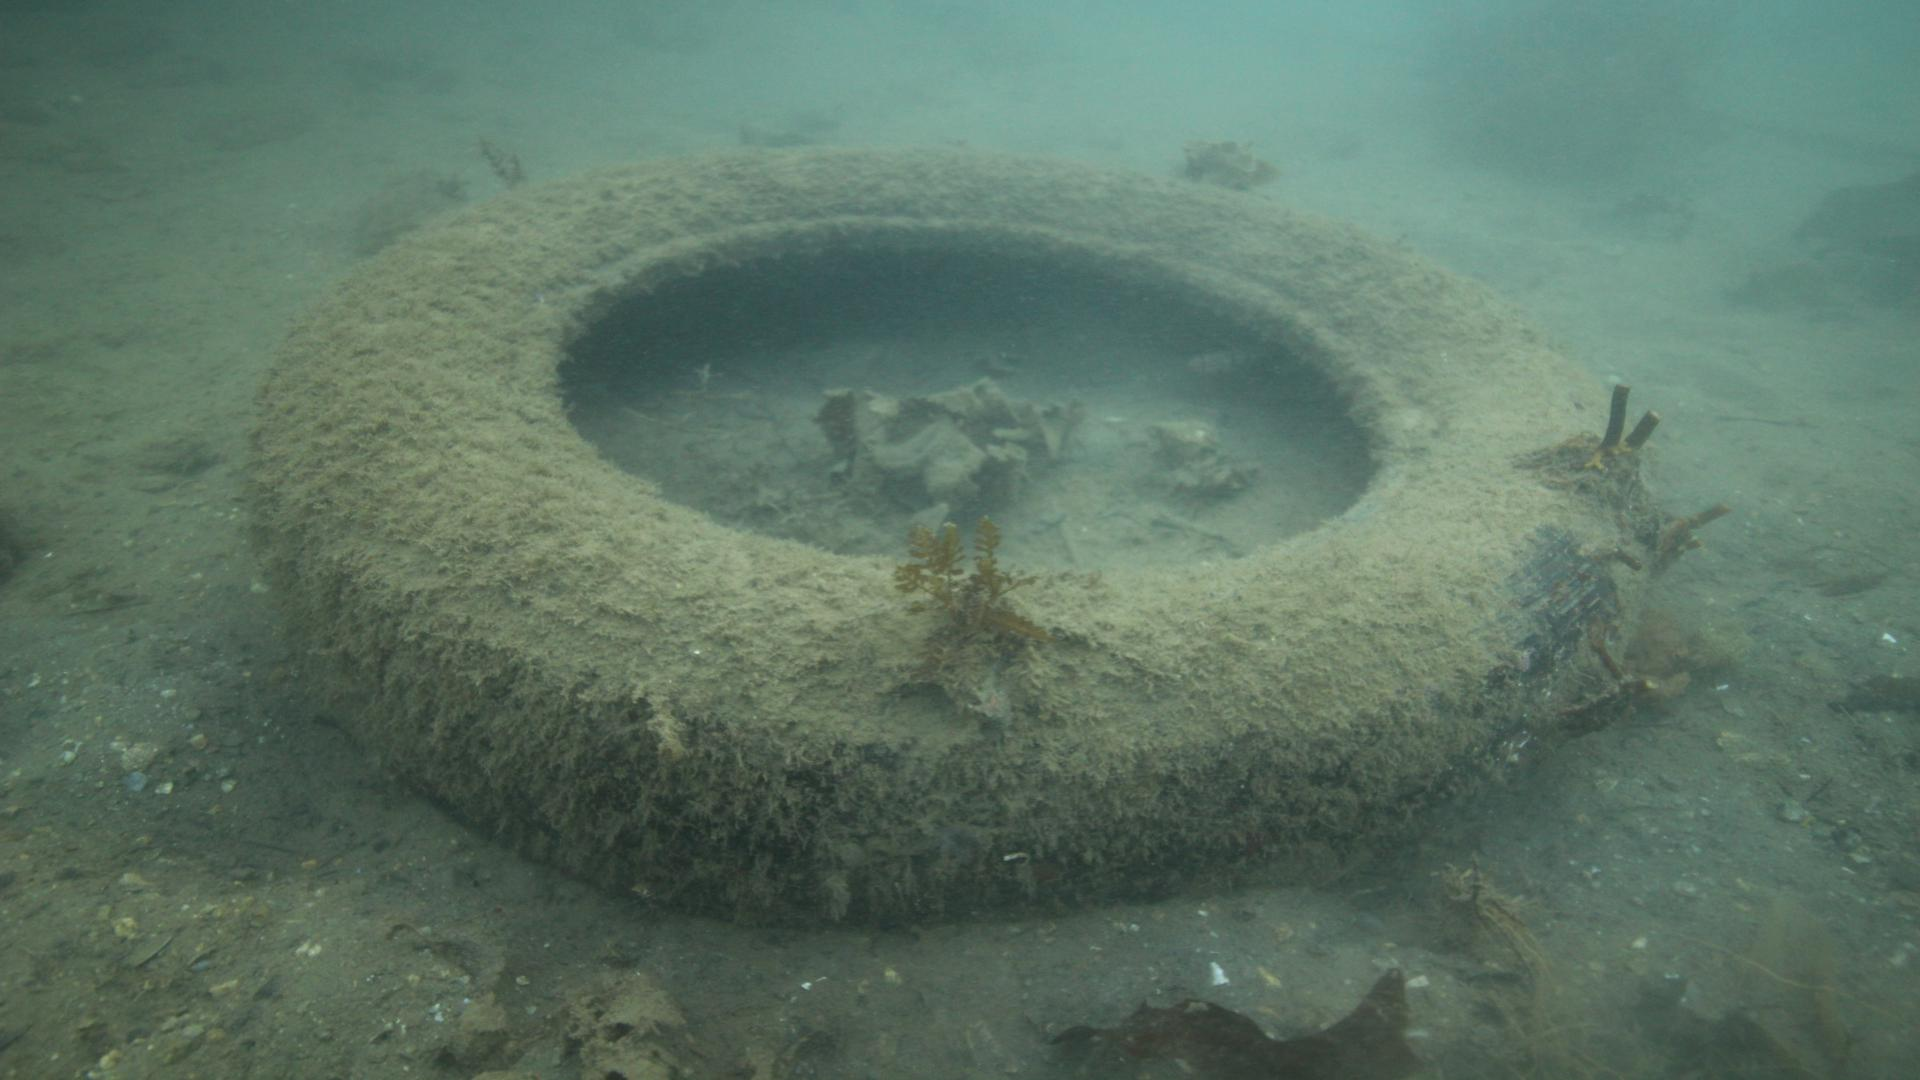tire: (253, 146, 1650, 926)
